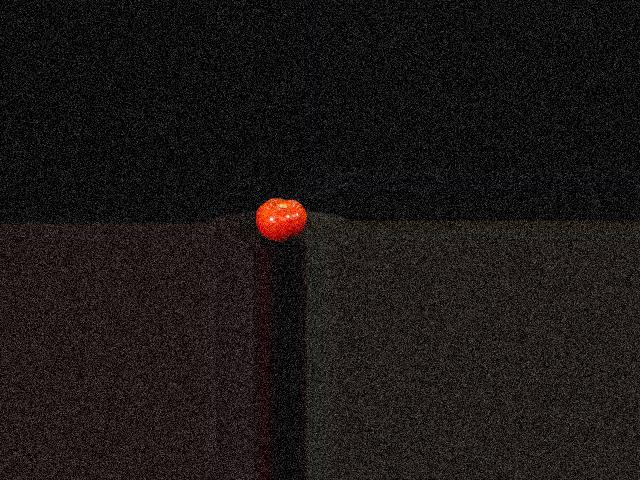tomato: (254, 198, 306, 242)
